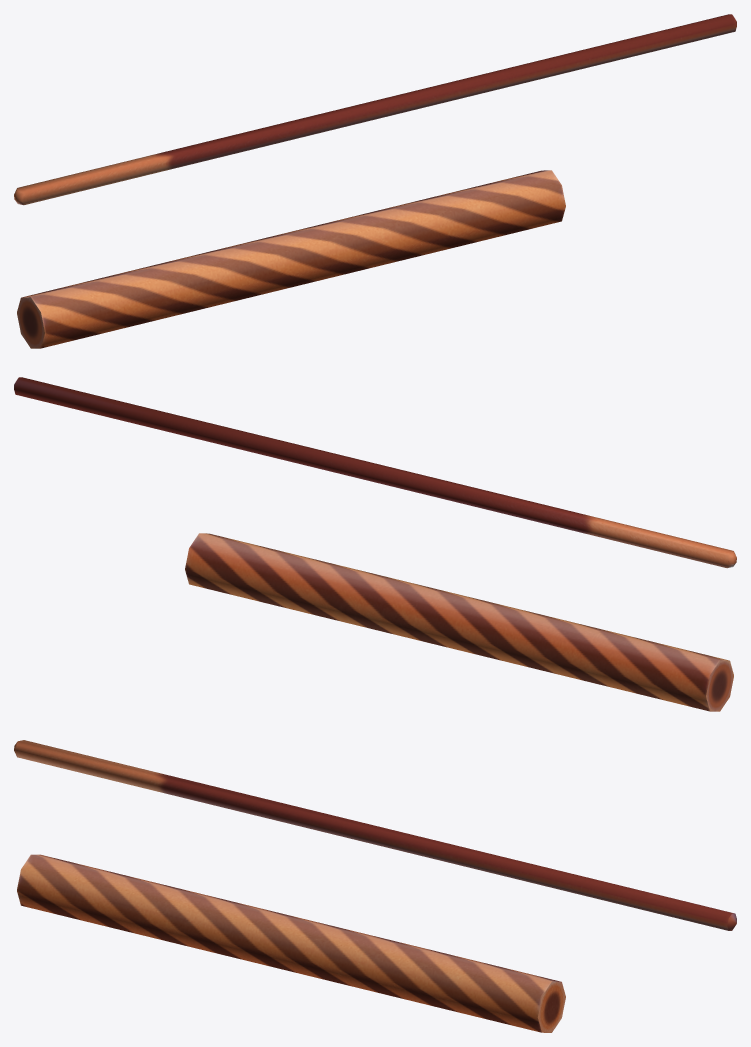
File: palos.fbx
The picture shows the model from 3 angles, top to bottom: view 1: azimuth 30°, elevation 25°; view 2: azimuth 150°, elevation 25°; view 3: azimuth 330°, elevation 25°; orthographic projection.
Parts seen in each view (by area): view 1: stripped_stick, pocky; view 2: stripped_stick, pocky; view 3: stripped_stick, pocky.
Boxes of the visible parts, x1,y1,x2,y2 form: stripped_stick: (17,170,565,348); pocky: (14,14,736,205); stripped_stick: (185,533,733,711); pocky: (14,377,736,568); stripped_stick: (17,854,565,1032); pocky: (14,740,736,930).
Bounding box in the file's own units: 192 × 41.59 × 13.05.
1 material, 1 textured.
